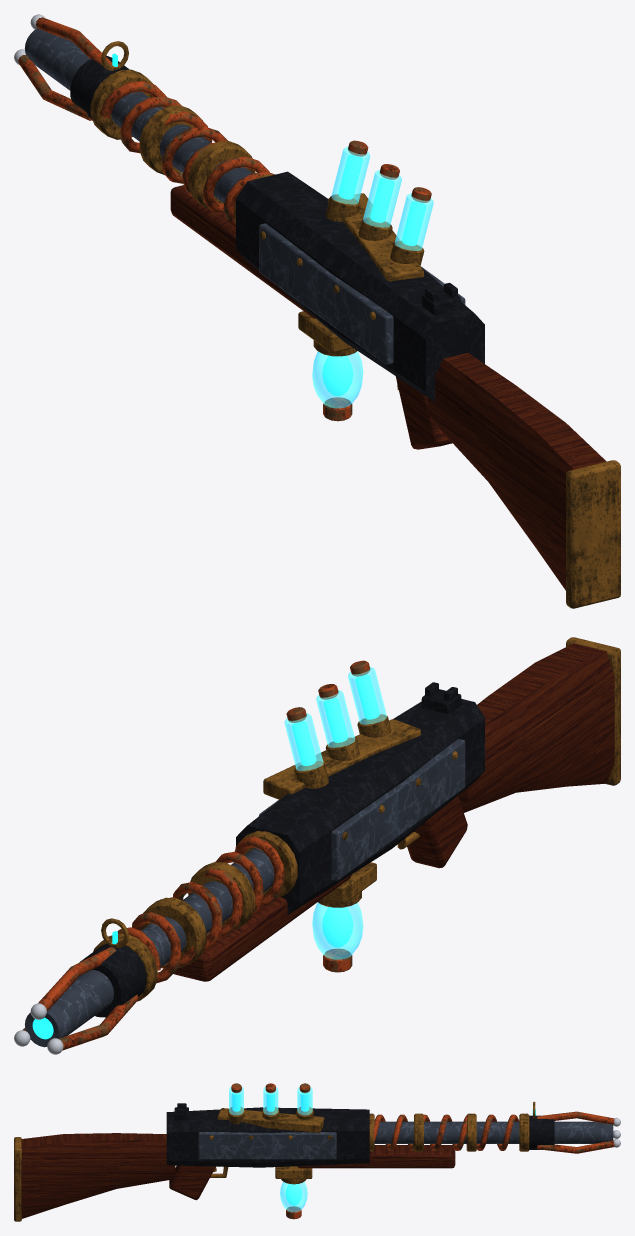
Rendered from wunderwaffe.glb.
3 views of the same model, one above another, from view 1: azimuth 30°, elevation 25°; view 2: azimuth 150°, elevation 25°; view 3: azimuth 270°, elevation 25° (orthographic). The views are drawn at different scales.
Visible parts, largest first — view 1: Receiver, VacuumTubes, Magazine; view 2: Receiver, VacuumTubes, Magazine; view 3: Receiver, VacuumTubes, Magazine.
Boxes of the visible parts, left/top/right/bottom form: Receiver: left=14, top=14, right=620, bottom=608; VacuumTubes: left=325, top=140, right=433, bottom=265; Magazine: left=312, top=340, right=363, bottom=421; Receiver: left=14, top=637, right=620, bottom=1054; VacuumTubes: left=284, top=660, right=391, bottom=788; Magazine: left=312, top=891, right=363, bottom=972; Receiver: left=14, top=1101, right=620, bottom=1221; VacuumTubes: left=228, top=1083, right=313, bottom=1124; Magazine: left=280, top=1179, right=307, bottom=1219.
Size of the model in its own units: 0.0884 by 0.2341 by 0.9218.
8 materials, 5 textured.
